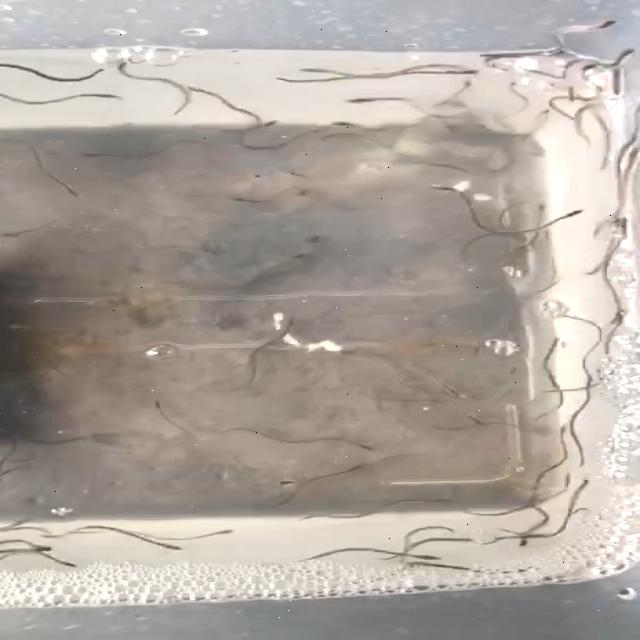inactive_glass_eel: (281, 228, 337, 255), (50, 177, 100, 197), (430, 378, 482, 396), (196, 528, 238, 547), (424, 183, 468, 200), (344, 438, 384, 456), (137, 394, 171, 415), (82, 144, 116, 164), (282, 310, 310, 334), (278, 472, 308, 494), (29, 558, 73, 572), (458, 409, 488, 429), (254, 116, 286, 134), (588, 16, 620, 34), (410, 550, 451, 564), (346, 96, 386, 110), (604, 48, 640, 62), (566, 201, 594, 219), (504, 534, 546, 546), (155, 540, 189, 554), (328, 118, 354, 136), (339, 461, 368, 477), (82, 66, 105, 86), (111, 57, 136, 73), (448, 68, 480, 80), (33, 542, 59, 552)
